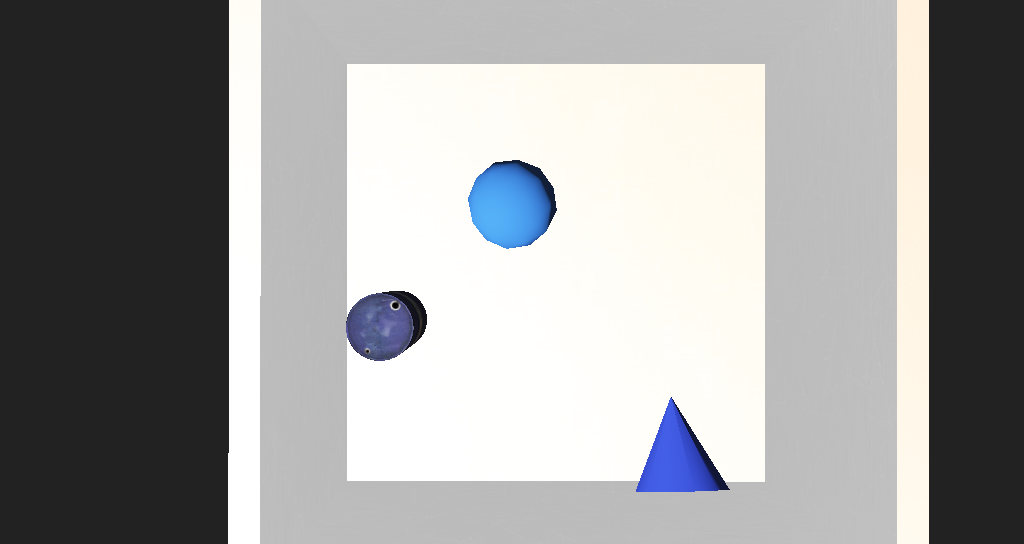cone: (357, 279, 411, 313)
cylinder: (556, 320, 630, 387)
sphere: (438, 210, 505, 258)
